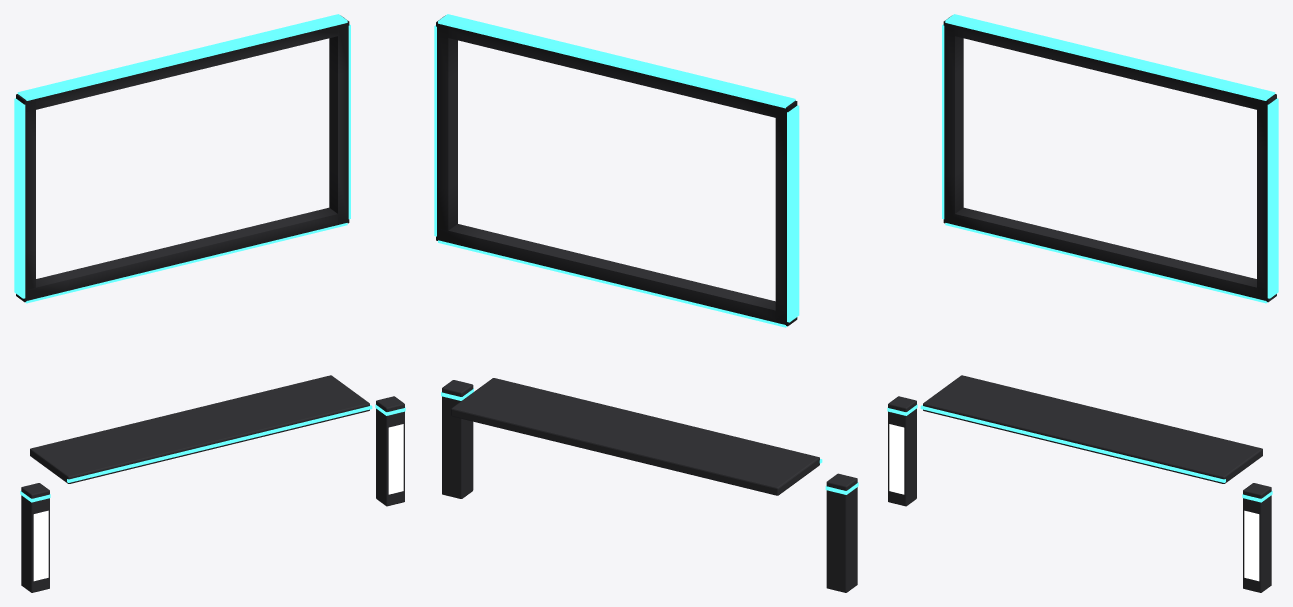
File: lm_arena.glb
The picture shows the model from 3 angles, left to right: view 1: azimuth 30°, elevation 25°; view 2: azimuth 150°, elevation 25°; view 3: azimuth 330°, elevation 25°; orthographic projection. The views are drawn at different scales.
Visible parts, largest first — view 1: body, sign_pylon-1, sign_pylon1; view 2: body; view 3: body, sign_pylon1, sign_pylon-1.
Part boxes in pixels (x1,y1,x2,y2): body: [14, 14, 405, 592]; sign_pylon-1: [33, 510, 48, 581]; sign_pylon1: [388, 424, 403, 494]; body: [434, 14, 858, 592]; body: [887, 14, 1278, 592]; sign_pylon1: [1244, 510, 1259, 581]; sign_pylon-1: [889, 424, 904, 494].
Size of the model in its own units: 19.82 by 23.55 by 3.88.
